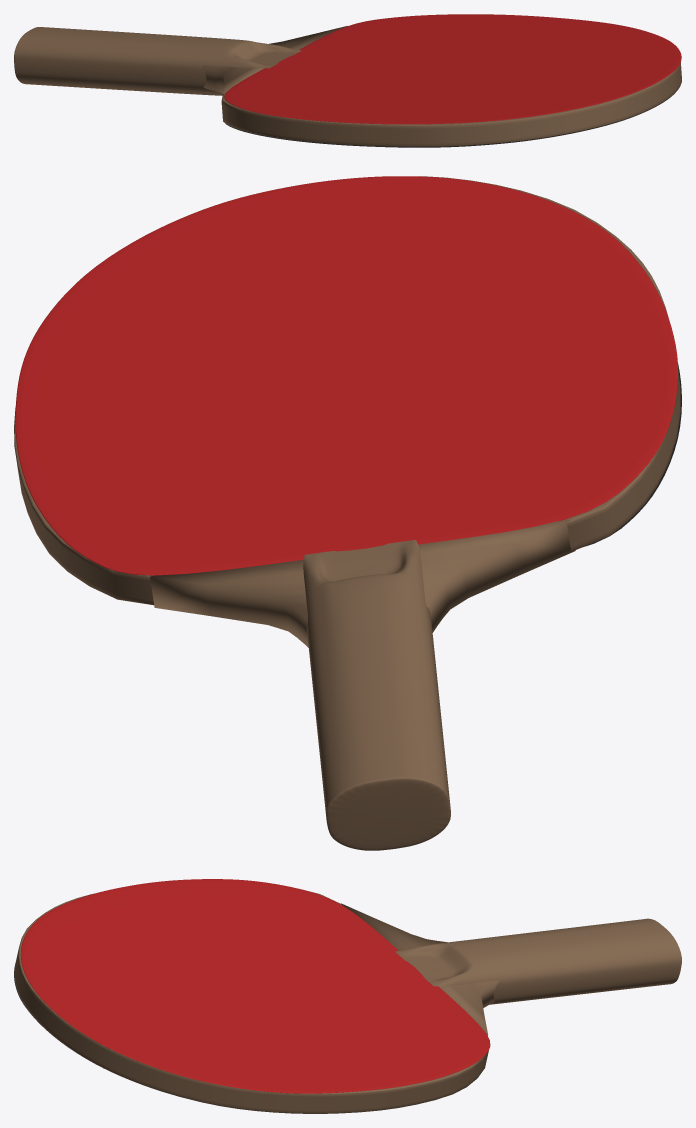
File: TennisPaddle.fbx
The picture shows the model from 3 angles, top to bottom: view 1: azimuth 30°, elevation 25°; view 2: azimuth 150°, elevation 25°; view 3: azimuth 270°, elevation 25°; orthographic projection. The views are drawn at different scales.
Visible parts, largest first — view 1: raquet; view 2: raquet; view 3: raquet.
Boxes of the visible parts, box(x1,y1,x2,y2) form: raquet: box(14, 14, 681, 147); raquet: box(14, 176, 681, 850); raquet: box(14, 879, 681, 1113).
Size of the model in its own units: 99.49 by 29.77 by 125.
